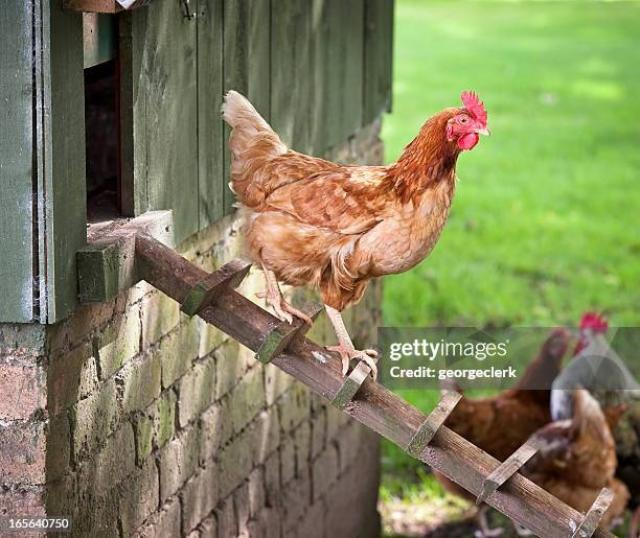Chicken: (222, 90, 489, 383), (435, 327, 573, 538), (551, 311, 640, 423)
